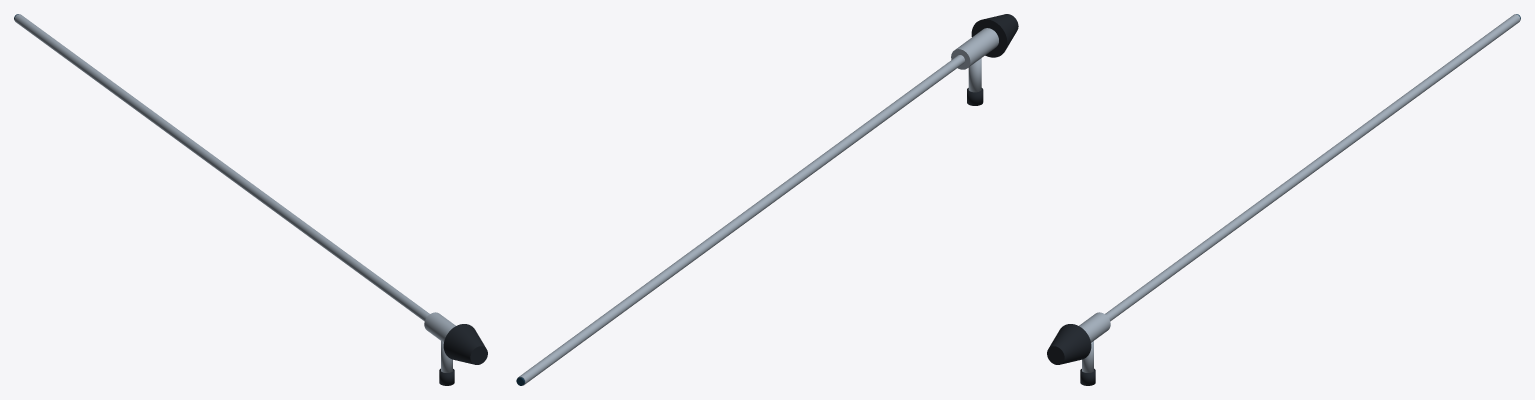
Rendered from bx-5500-fa-rigid-telescope-f8558b4cda28.glb.
3 views of the same model, side by side, from view 1: azimuth 30°, elevation 25°; view 2: azimuth 150°, elevation 25°; view 3: azimuth 330°, elevation 25° (orthographic). The views are drawn at different scales.
Visible parts, largest first — view 1: BX5500_FA_Sealed_Rod_Lens_Shaft, BX5500_FA_Black_Flared_Eyepiece, BX5500_FA_Proximal_Metal_Housing; view 2: BX5500_FA_Sealed_Rod_Lens_Shaft, BX5500_FA_Black_Flared_Eyepiece, BX5500_FA_Proximal_Metal_Housing; view 3: BX5500_FA_Sealed_Rod_Lens_Shaft, BX5500_FA_Black_Flared_Eyepiece, BX5500_FA_Proximal_Metal_Housing.
Part boxes in pixels (x1,y1,x2,y2): BX5500_FA_Sealed_Rod_Lens_Shaft: (14,14,429,321); BX5500_FA_Black_Flared_Eyepiece: (443,324,487,364); BX5500_FA_Proximal_Metal_Housing: (424,312,455,342); BX5500_FA_Sealed_Rod_Lens_Shaft: (517,55,964,385); BX5500_FA_Black_Flared_Eyepiece: (971,14,1018,57); BX5500_FA_Proximal_Metal_Housing: (951,28,998,69); BX5500_FA_Sealed_Rod_Lens_Shaft: (1105,14,1520,321); BX5500_FA_Black_Flared_Eyepiece: (1047,324,1091,364); BX5500_FA_Proximal_Metal_Housing: (1079,312,1110,342).
Bounding box in the file's own units: 0.023 × 0.0445 × 0.545.
